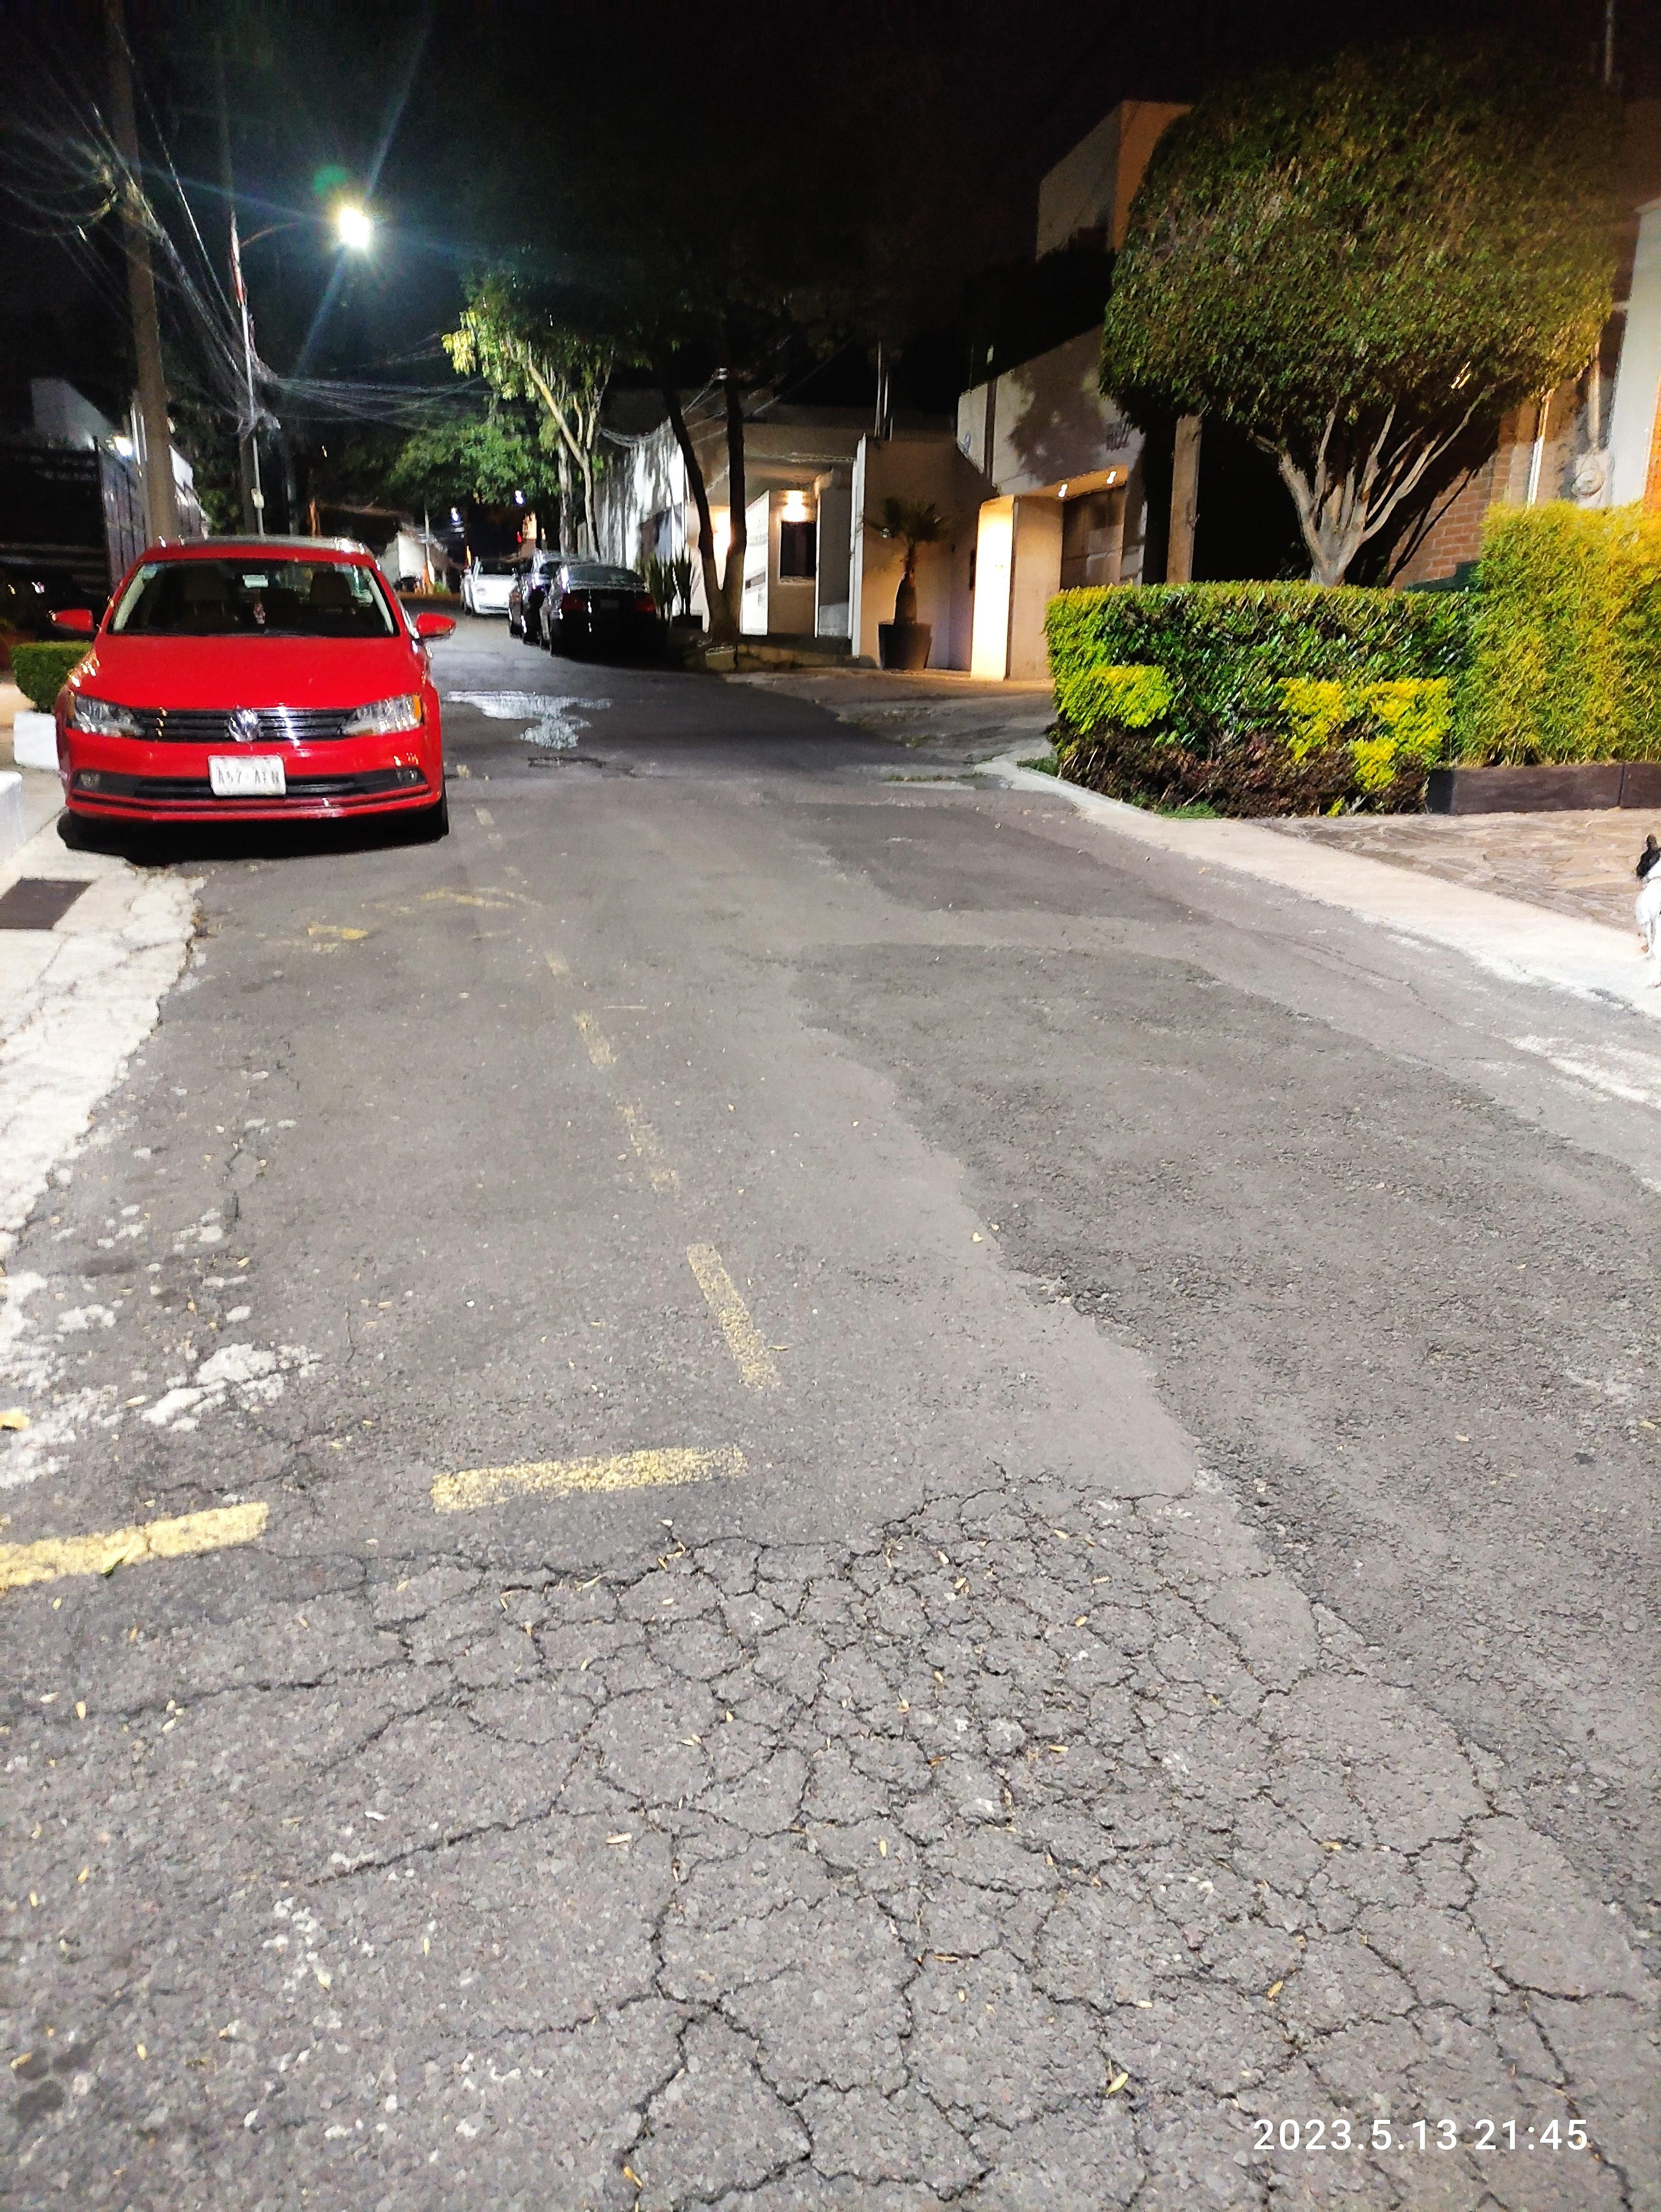alligator-crack: (211, 1458, 1661, 2212), (44, 1608, 452, 1915), (140, 1092, 384, 1605)
